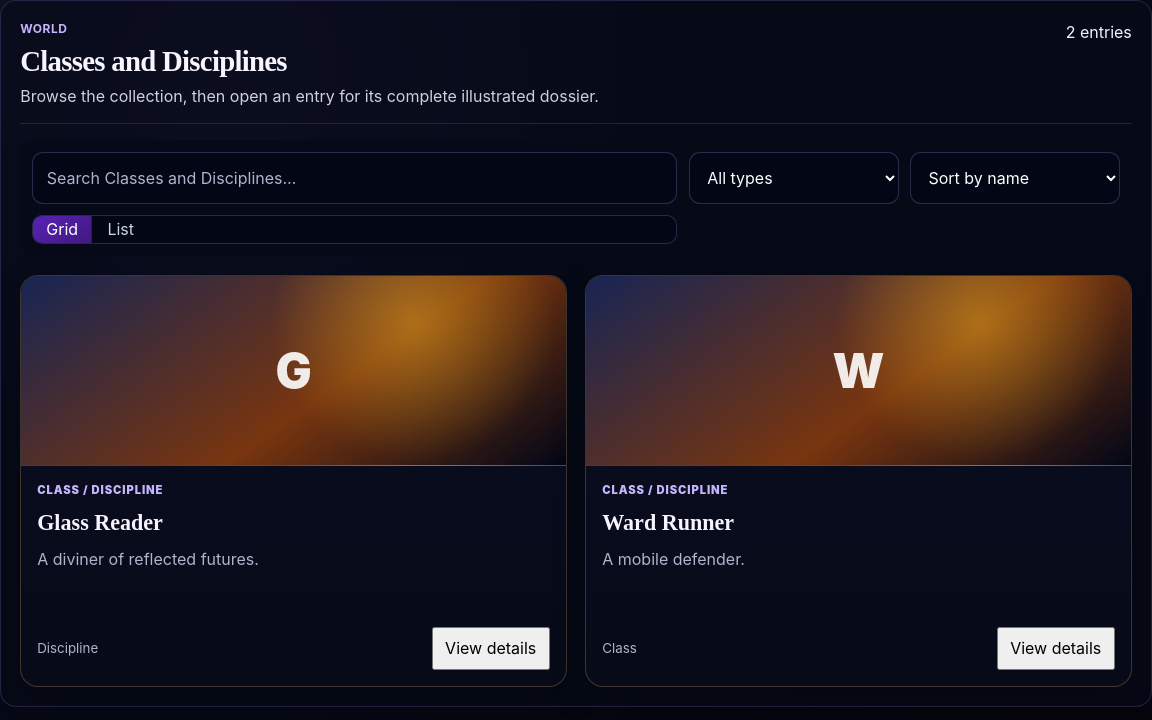
Test case: RpgWorldAuthoringPage collections › searches and filters formatted collection cards
Expected: the heading "Ward Runner" is shown, [602,510,734,535]
Expected: the heading "Glass Reader" is shown, [37,510,163,535]
In the field labelled "Search Classes and Disciplines": (355, 178) [32,152,678,204], type "glass"
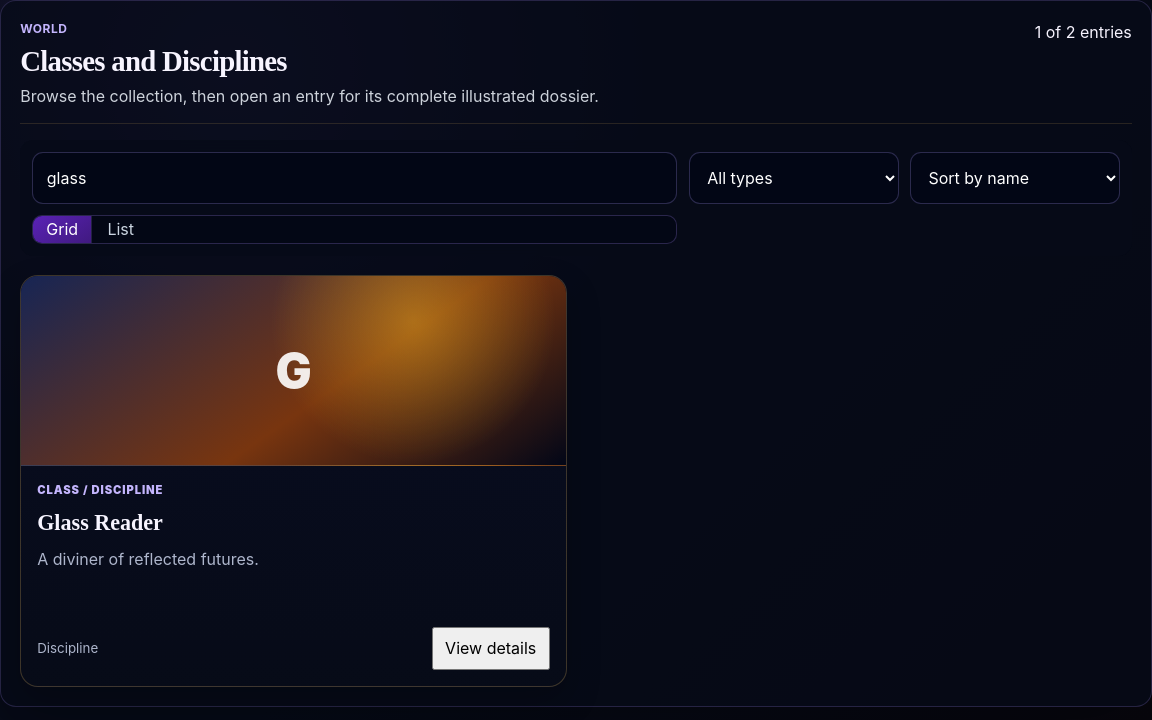
Expected: the heading "Glass Reader" is shown, [37,510,163,535]
Now the heading "Ward Runner" is gone
Clear the field named "Search Classes and Disciplines": (355, 178) [32,152,678,204]
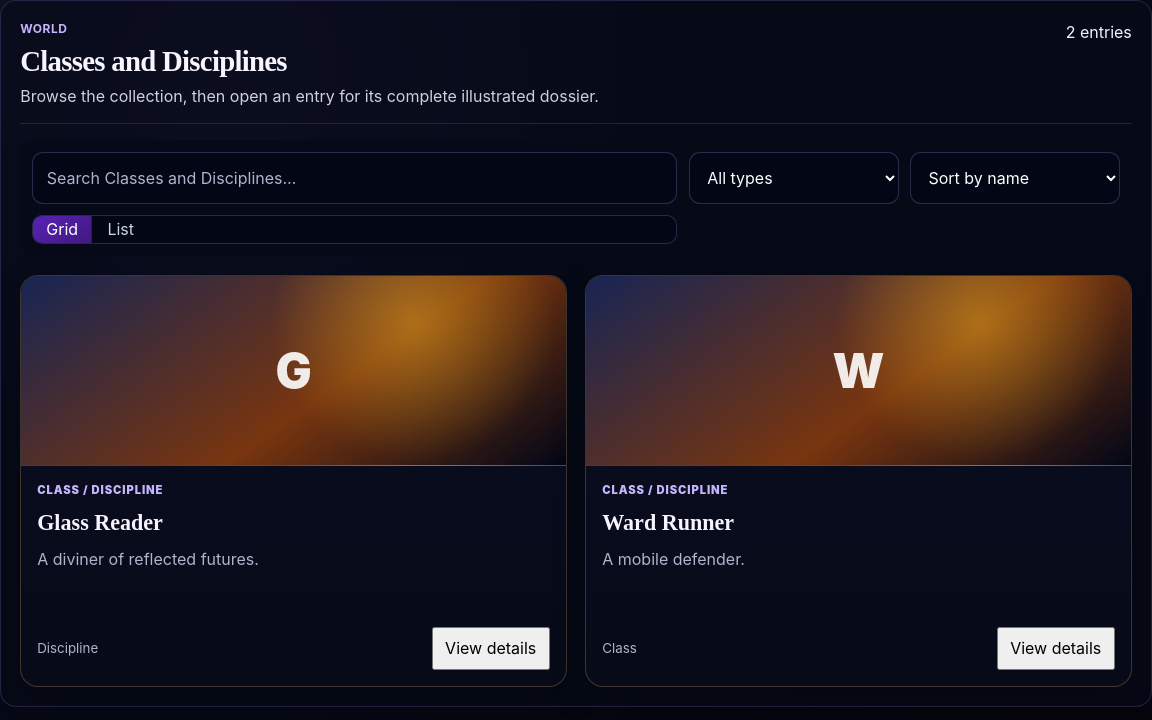
Select "Class" in the dropdown named "Filter Classes and Disciplines by type": (794, 178) [689,152,899,204]
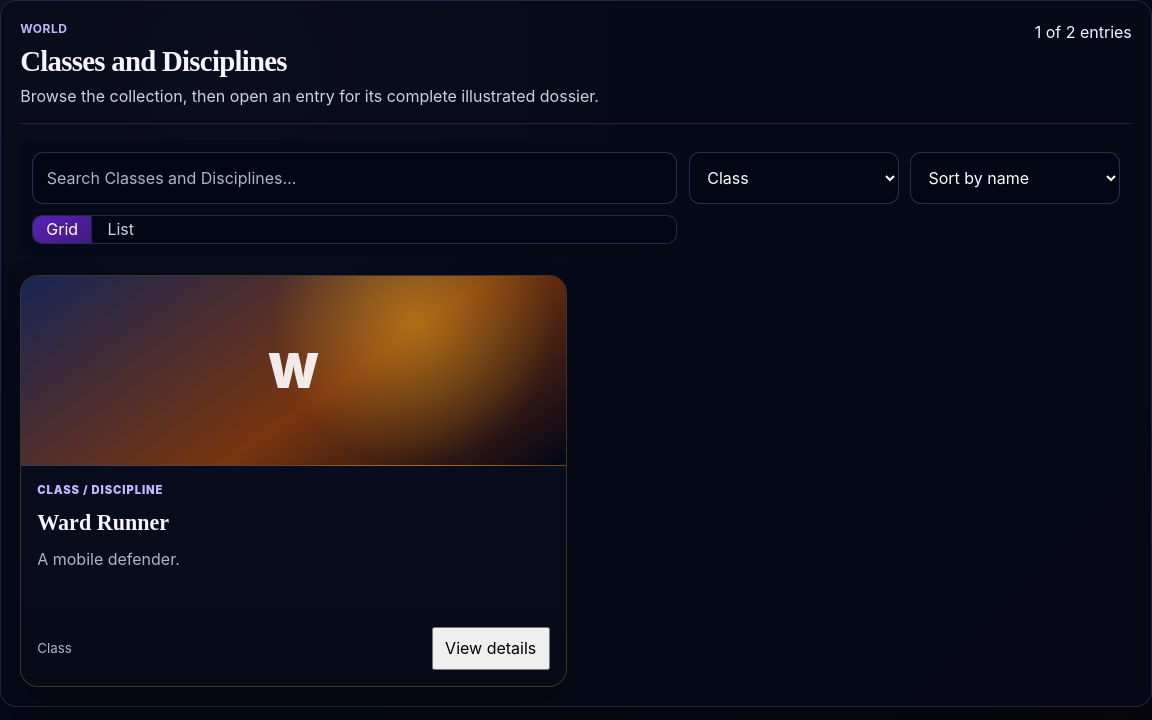
Now the heading "Ward Runner" is shown, box [37,510,169,535]
Now the heading "Glass Reader" is gone
